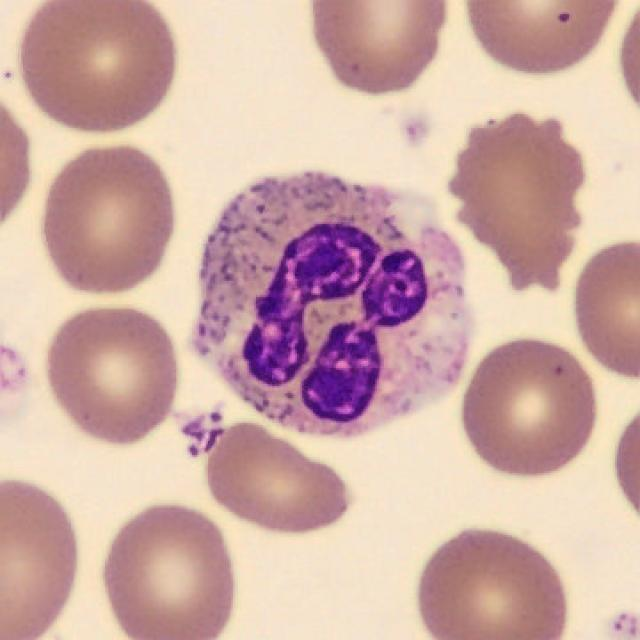Neutrofilo segmentado: (199, 171, 473, 439)
